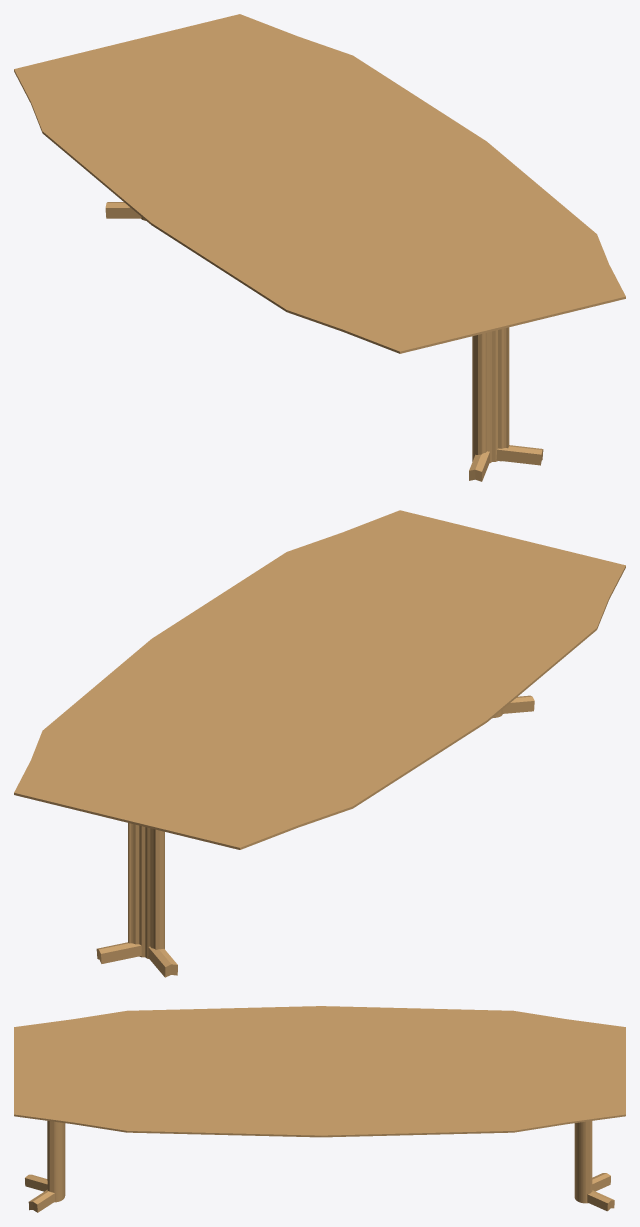
File: room_table.fbx
The picture shows the model from 3 angles, top to bottom: view 1: azimuth 30°, elevation 25°; view 2: azimuth 150°, elevation 25°; view 3: azimuth 270°, elevation 25°; orthographic projection. The views are drawn at different scales.
Parts seen in each view (by area): view 1: Cube.029; view 2: Cube.029; view 3: Cube.029.
Part boxes in pixels (x1,y1,x2,y2): Cube.029: [14, 14, 625, 481]; Cube.029: [14, 510, 625, 977]; Cube.029: [14, 1006, 625, 1212].
Size of the model in its own units: 312 by 140 by 622.
